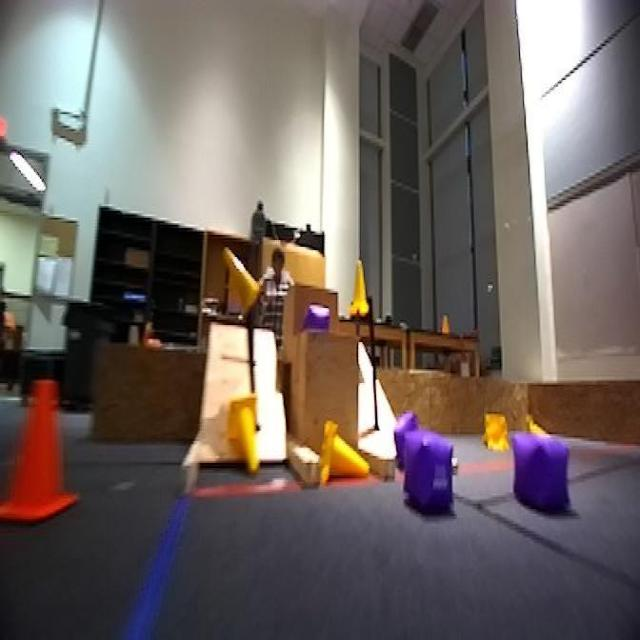frc_cone: (221, 395, 269, 475), (317, 418, 370, 488), (220, 242, 268, 313), (344, 262, 373, 320), (482, 412, 508, 449), (526, 416, 556, 438)
frc_cube: (512, 422, 574, 529), (404, 429, 454, 519), (378, 412, 415, 478), (303, 301, 336, 339)
